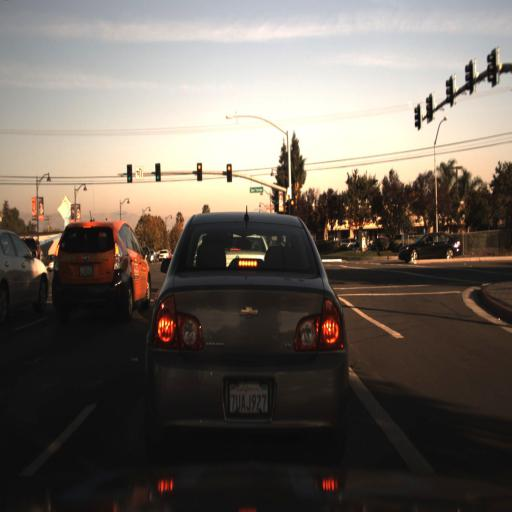car: (139, 197, 375, 486), (43, 205, 154, 342), (52, 218, 153, 321), (0, 219, 54, 326), (393, 225, 463, 268), (10, 228, 60, 273)
trafficLight: (152, 160, 162, 187)
trafficLight-Green: (124, 157, 135, 190)
trafficLight-GreenLeft: (125, 159, 135, 184)
trafficLight-Red: (220, 155, 237, 194), (193, 158, 203, 186), (287, 197, 296, 228), (224, 162, 233, 187), (196, 159, 205, 183), (289, 196, 298, 219)
